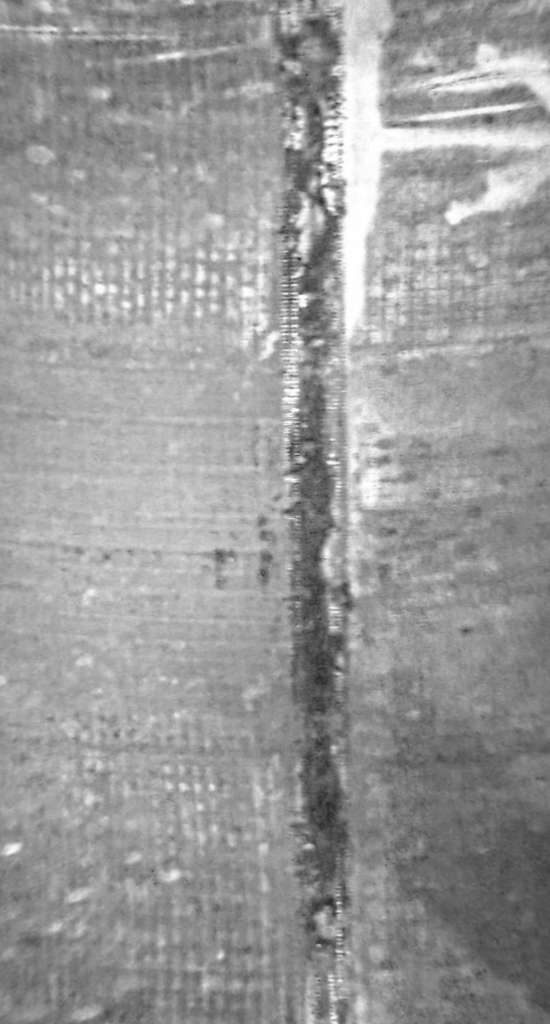splice: (266, 2, 384, 1024)
